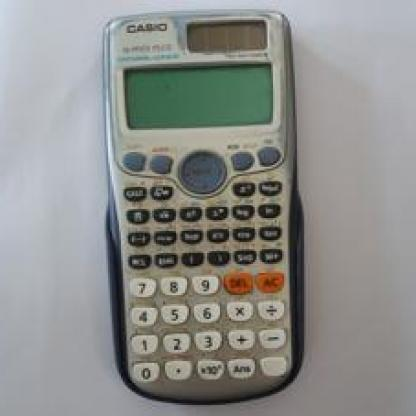calculator: (90, 8, 308, 409)
